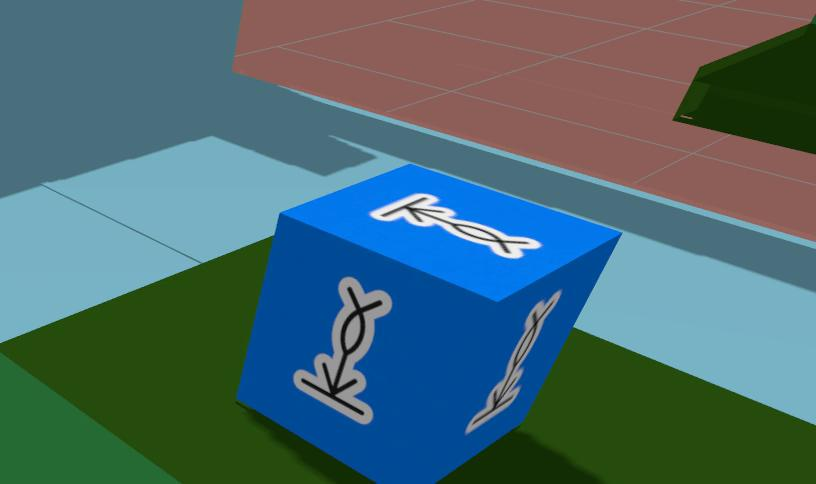KFS_REAL: (237, 166, 620, 484), (293, 277, 391, 424), (370, 193, 541, 257)
